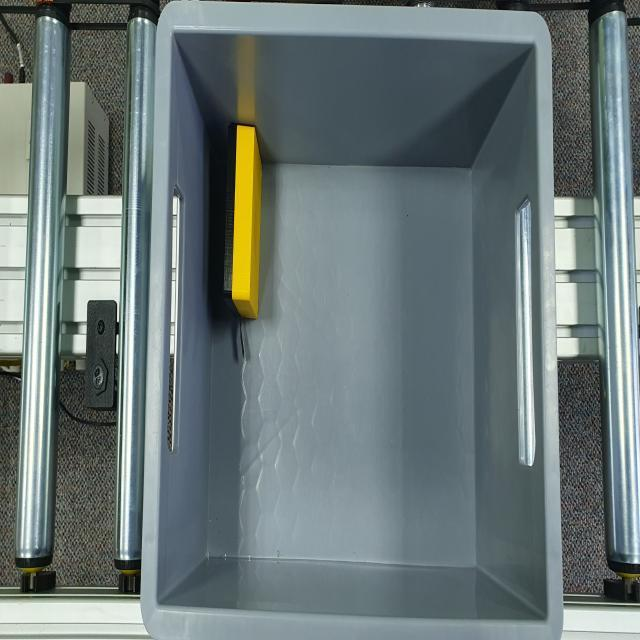box: (223, 120, 260, 318)
